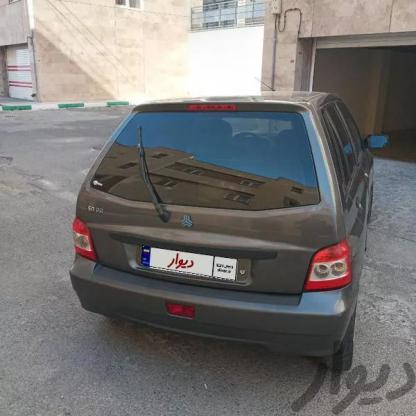Car: (61, 93, 381, 373)
